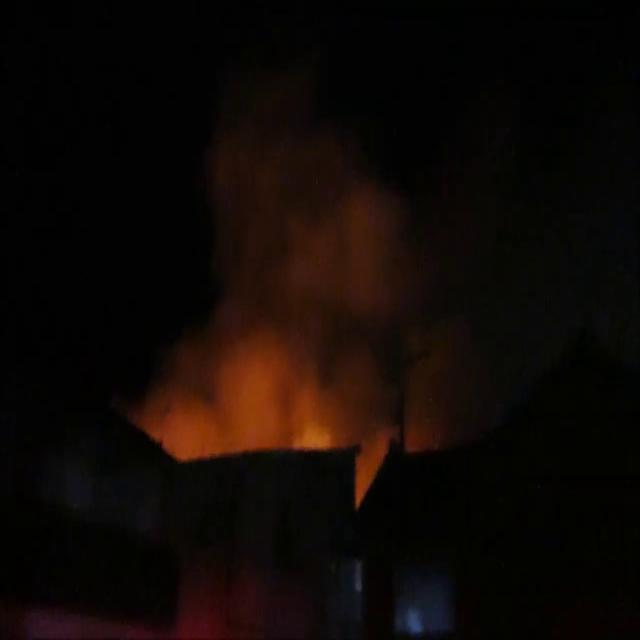Smoke: (148, 64, 472, 456)
